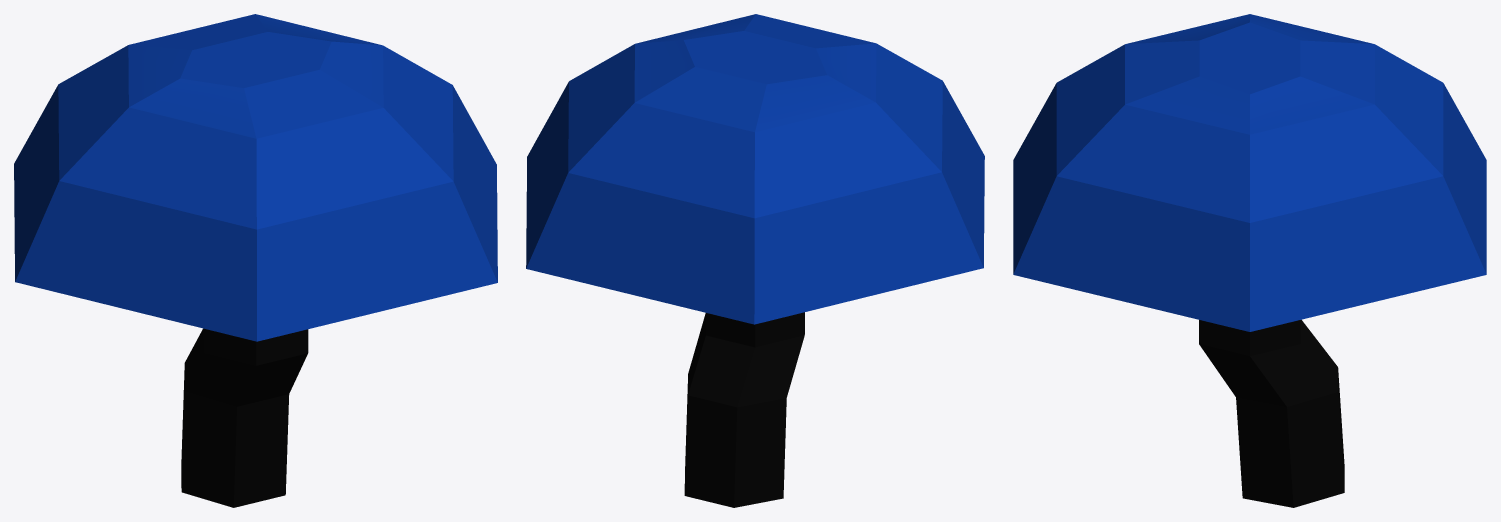
File: Mushroom03_HT.fbx
The picture shows the model from 3 angles, left to right: view 1: azimuth 30°, elevation 25°; view 2: azimuth 150°, elevation 25°; view 3: azimuth 270°, elevation 25°; orthographic projection. The views are drawn at different scales.
Parts seen in each view (by area): view 1: Mushroom03_HT; view 2: Mushroom03_HT; view 3: Mushroom03_HT.
Boxes of the visible parts, x1=… form: Mushroom03_HT: x1=14, y1=14, x2=497, y2=507; Mushroom03_HT: x1=526, y1=14, x2=984, y2=507; Mushroom03_HT: x1=1013, y1=14, x2=1486, y2=507.
Size of the model in its own units: 26.09 by 22.7 by 22.79.
